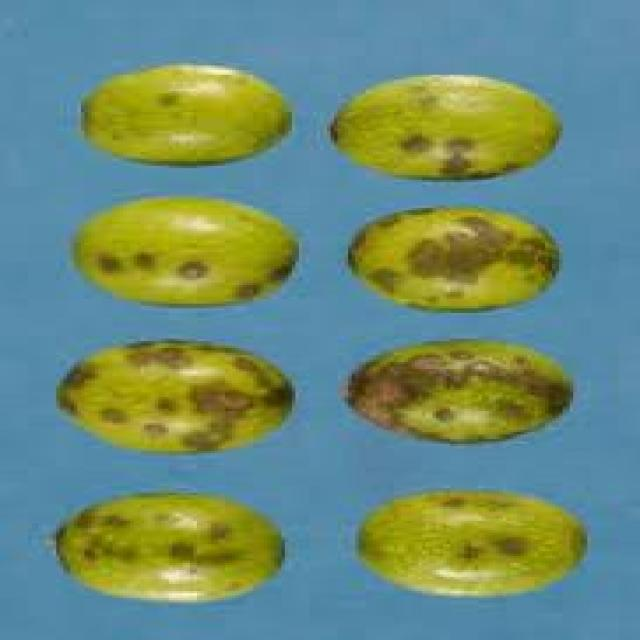Olive Fruit Fly: (56, 343, 288, 451), (334, 75, 559, 178), (359, 491, 584, 593), (77, 199, 295, 304), (60, 495, 278, 600), (348, 341, 570, 441), (352, 210, 556, 308), (84, 65, 288, 161)
